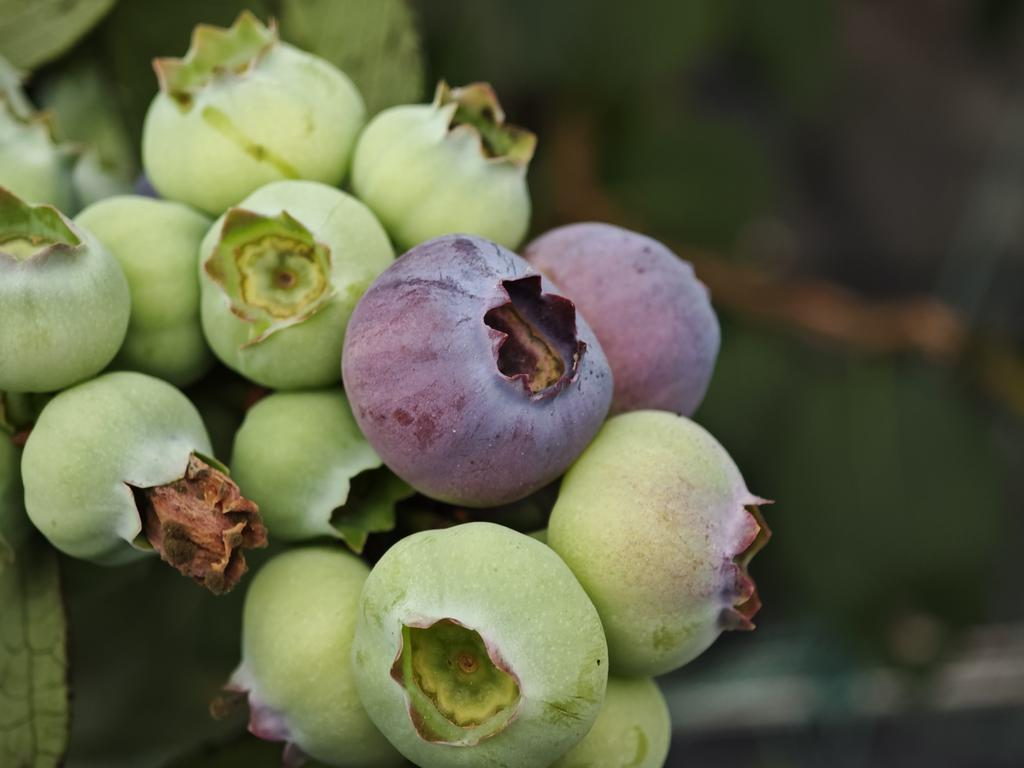Semi-RipeBlueBerry: (344, 233, 599, 494)
UnripeBlueBerry: (359, 520, 612, 768), (554, 410, 766, 677), (20, 381, 219, 559), (199, 180, 352, 381)
